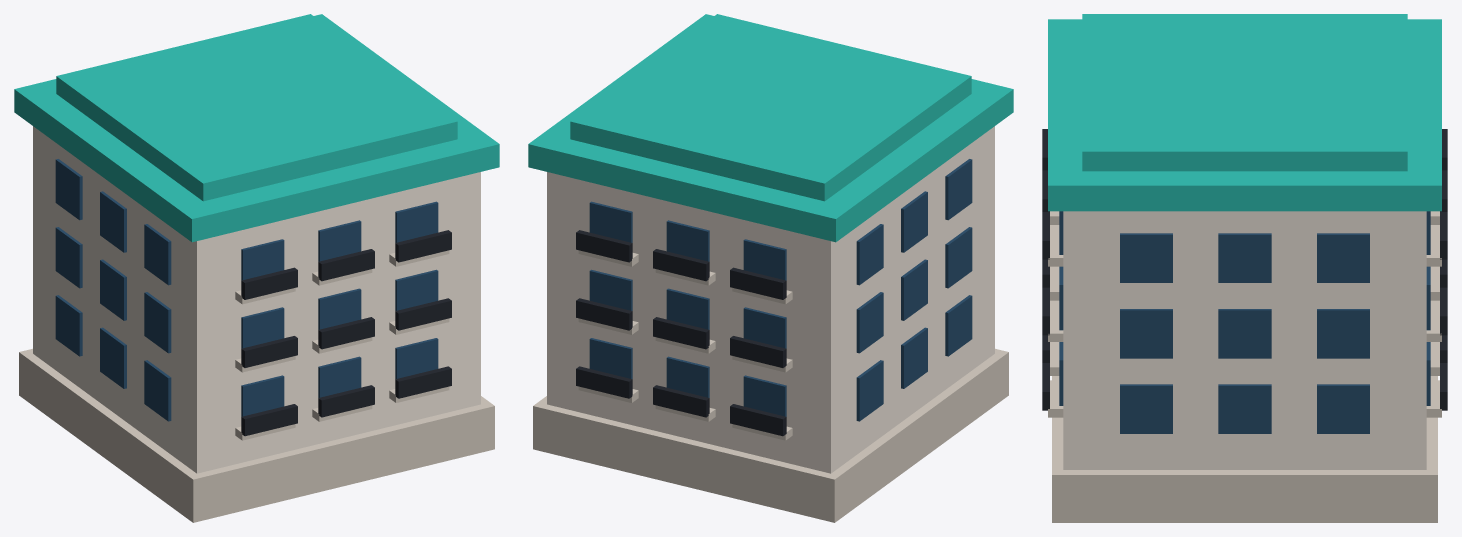
Rendered from building_havana.glb.
The picture shows the model from 3 angles, left to right: view 1: azimuth 30°, elevation 25°; view 2: azimuth 150°, elevation 25°; view 3: azimuth 270°, elevation 25°; orthographic projection. The views are drawn at different scales.
Parts seen in each view (by area): view 1: building_havana; view 2: building_havana; view 3: building_havana.
Boxes of the visible parts, x1,y1,x2,y2 form: building_havana: [14, 14, 499, 522]; building_havana: [528, 14, 1013, 522]; building_havana: [1042, 14, 1447, 522].
Bounding box in the file's own units: 1.04 × 1.04 × 1.07.
